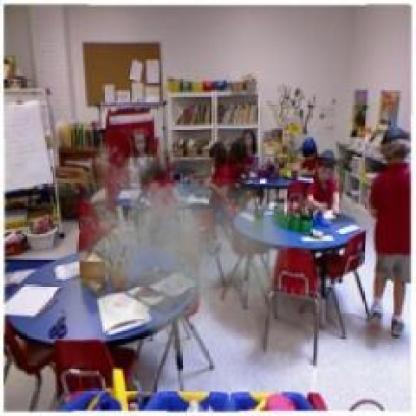Smoke: (63, 137, 292, 367)
